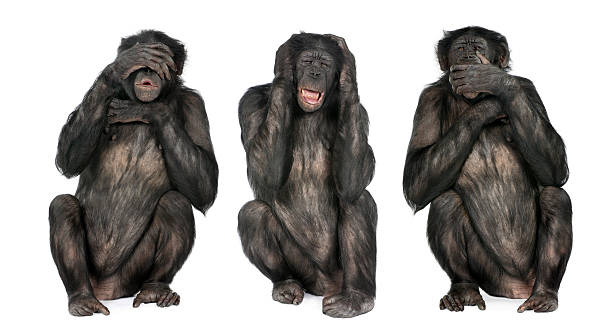chimpanzee: (273, 18, 356, 134)
